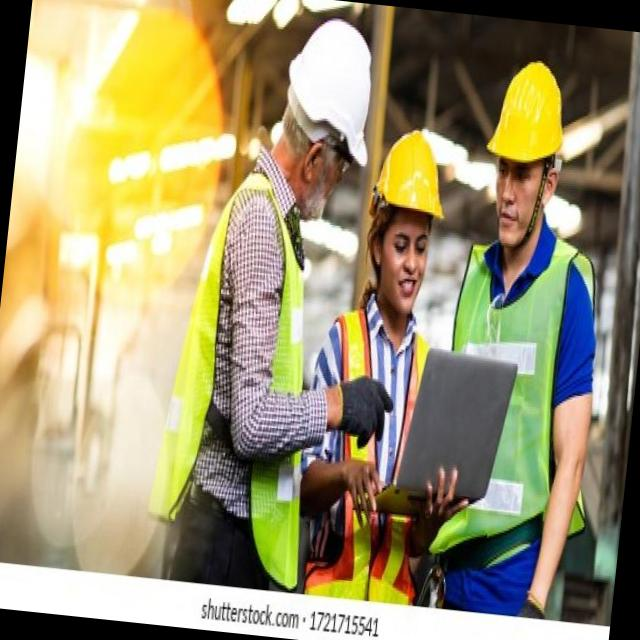Gloves: (328, 363, 403, 442)
Helmet: (274, 6, 398, 170)
Vest: (180, 160, 343, 574), (439, 244, 612, 568)
